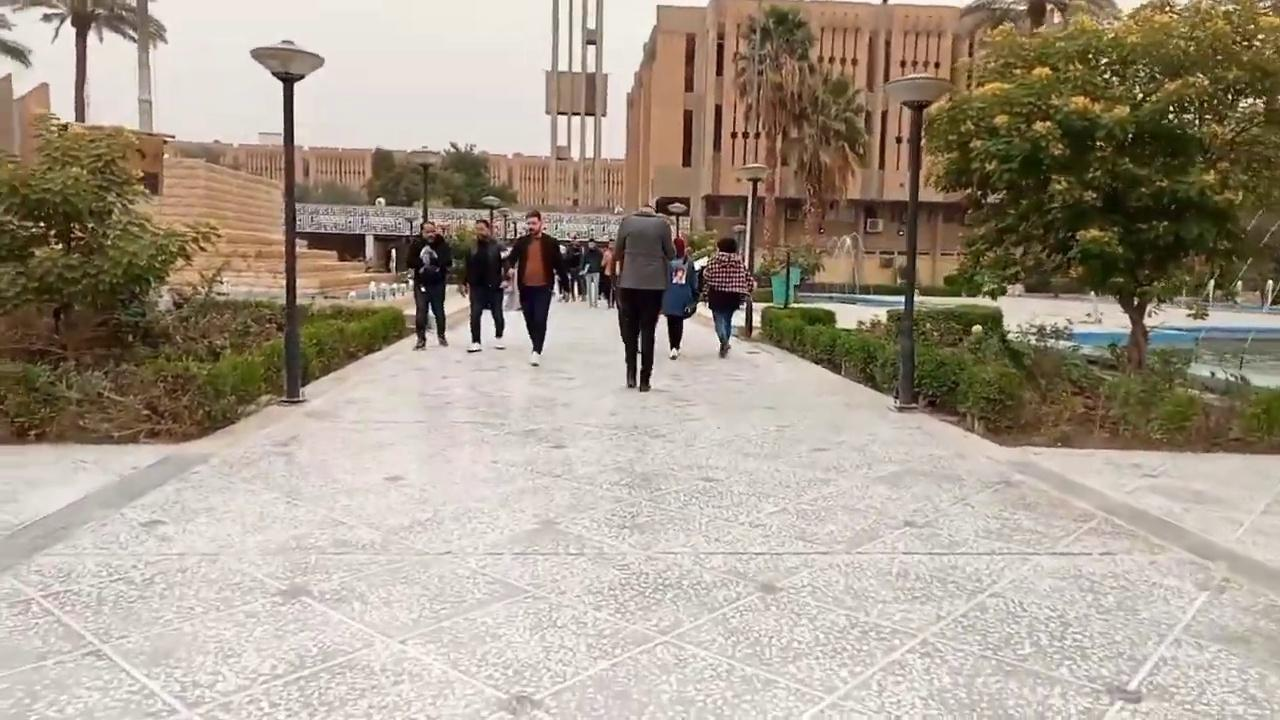fountain: (986, 276, 1278, 380), (794, 230, 916, 305), (824, 230, 862, 295), (346, 271, 411, 302)
person: (610, 204, 676, 391), (503, 209, 569, 366), (700, 237, 756, 357), (459, 218, 509, 351), (405, 220, 453, 349), (661, 243, 700, 359)
tree: (920, 0, 1278, 374), (0, 109, 223, 367), (1103, 0, 1279, 307), (726, 2, 871, 302), (4, 0, 168, 122), (127, 0, 167, 132), (756, 239, 824, 305), (438, 140, 489, 208), (405, 144, 442, 223), (361, 146, 402, 205), (0, 0, 33, 70), (480, 180, 519, 235), (480, 180, 519, 207), (688, 228, 718, 259)
